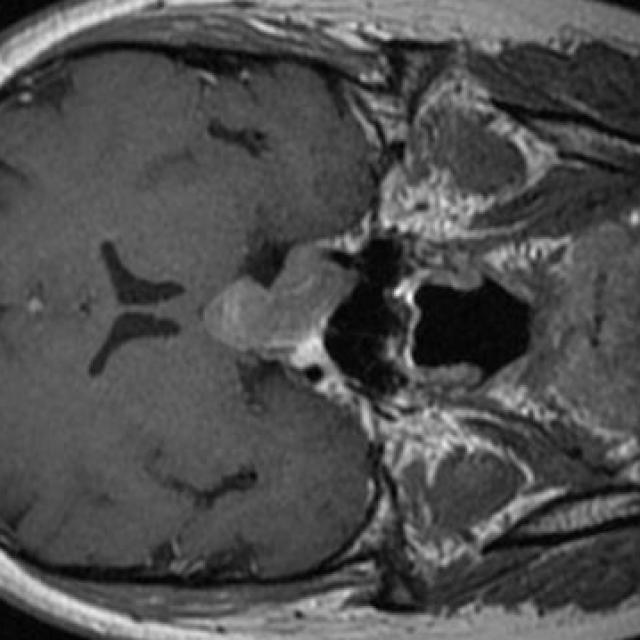pituitary: (203, 241, 360, 367)
